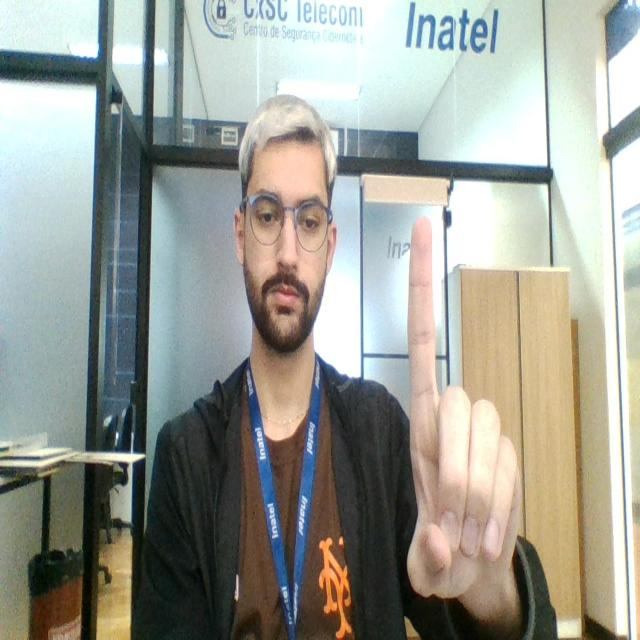D2: (395, 215, 525, 613)
